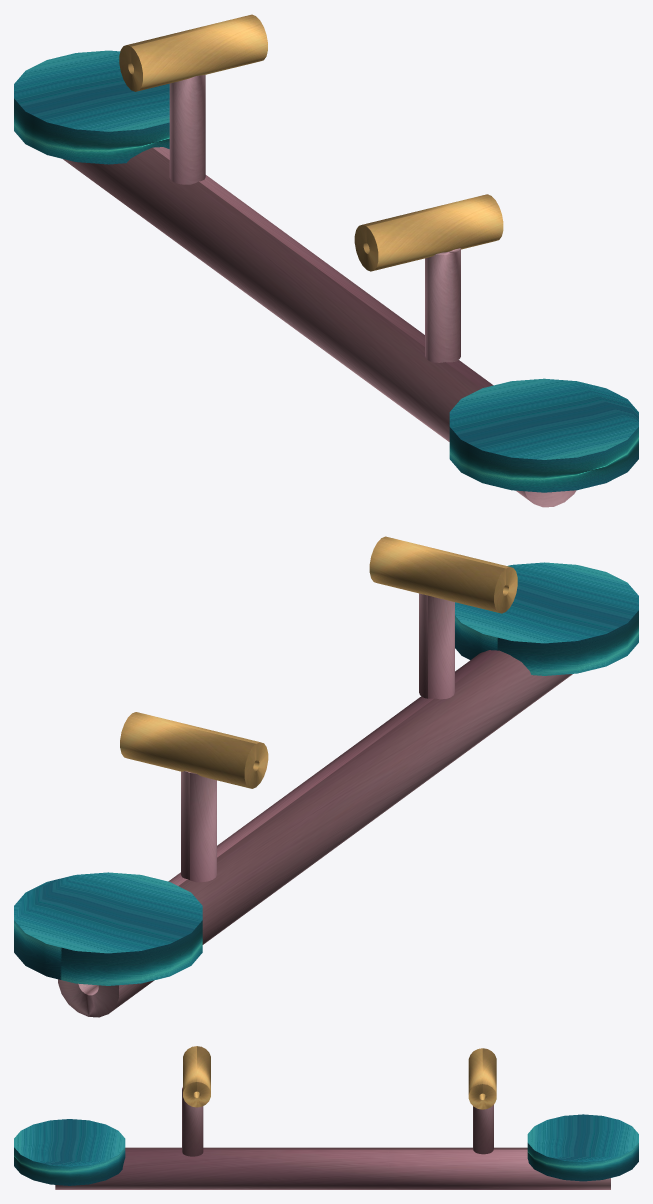
Rendered from suyba01.obj.
3 renders of one model, top to bottom at view 1: azimuth 30°, elevation 25°; view 2: azimuth 150°, elevation 25°; view 3: azimuth 270°, elevation 25°, orthographic. The views are drawn at different scales.
Parts seen in each view (by area): view 1: asiento01; view 2: asiento01; view 3: asiento01.
Boxes of the visible parts, <box> form: asiento01: <box>14,14,638,507</box>; asiento01: <box>14,536,638,1017</box>; asiento01: <box>14,1046,638,1189</box>.
Bounding box in the file's own units: 16.11 × 19.16 × 88.4.
3 materials, 3 textured.
